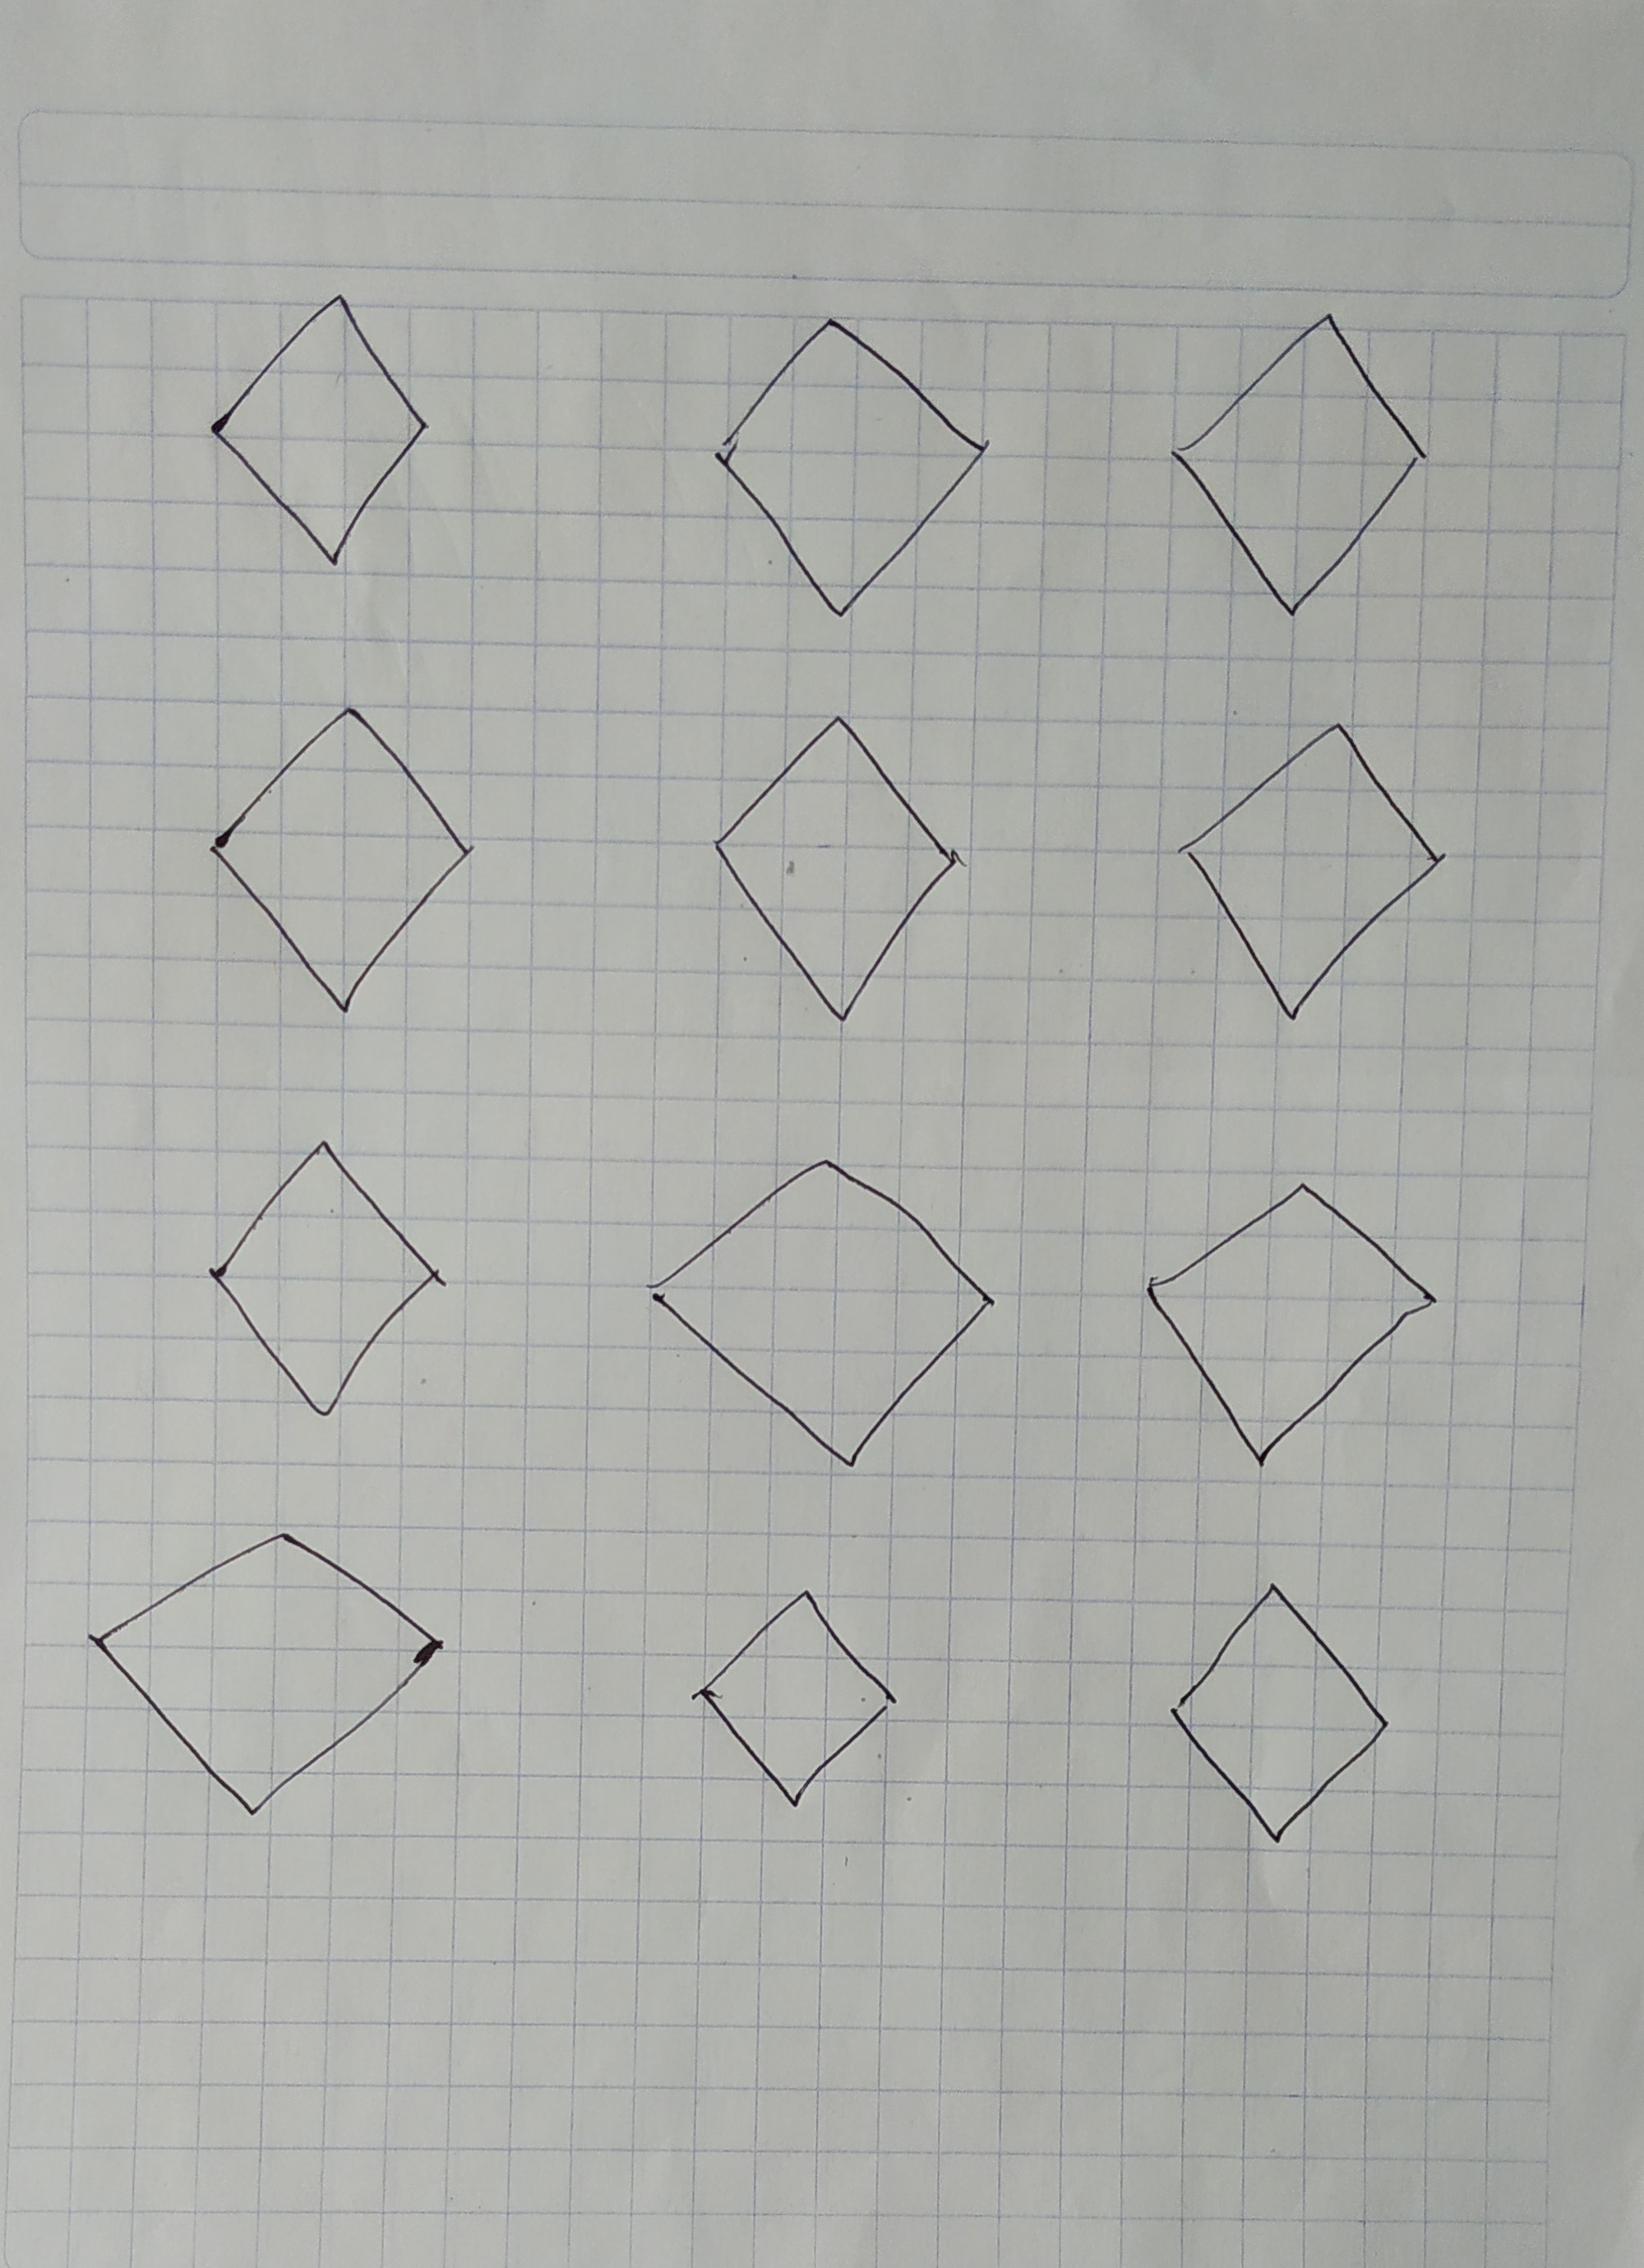decision: (642, 1148, 1000, 1479), (86, 1525, 445, 1826), (1135, 1173, 1445, 1472), (709, 312, 994, 623), (699, 704, 963, 1032), (209, 701, 473, 1020), (1162, 310, 1429, 616), (1181, 718, 1442, 1028), (204, 1130, 449, 1425), (204, 291, 431, 578), (1167, 1576, 1396, 1859), (683, 1574, 912, 1821)
